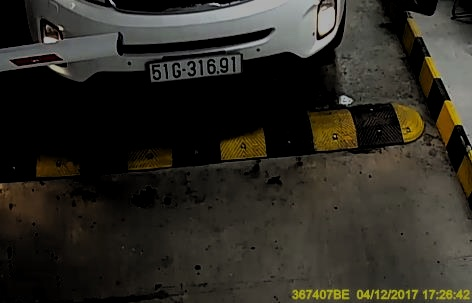plate: (146, 53, 241, 80)
